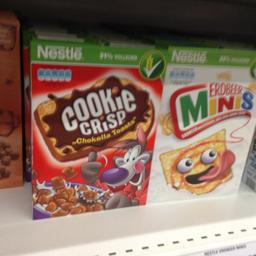cereal: (28, 40, 170, 221), (160, 44, 255, 204)
